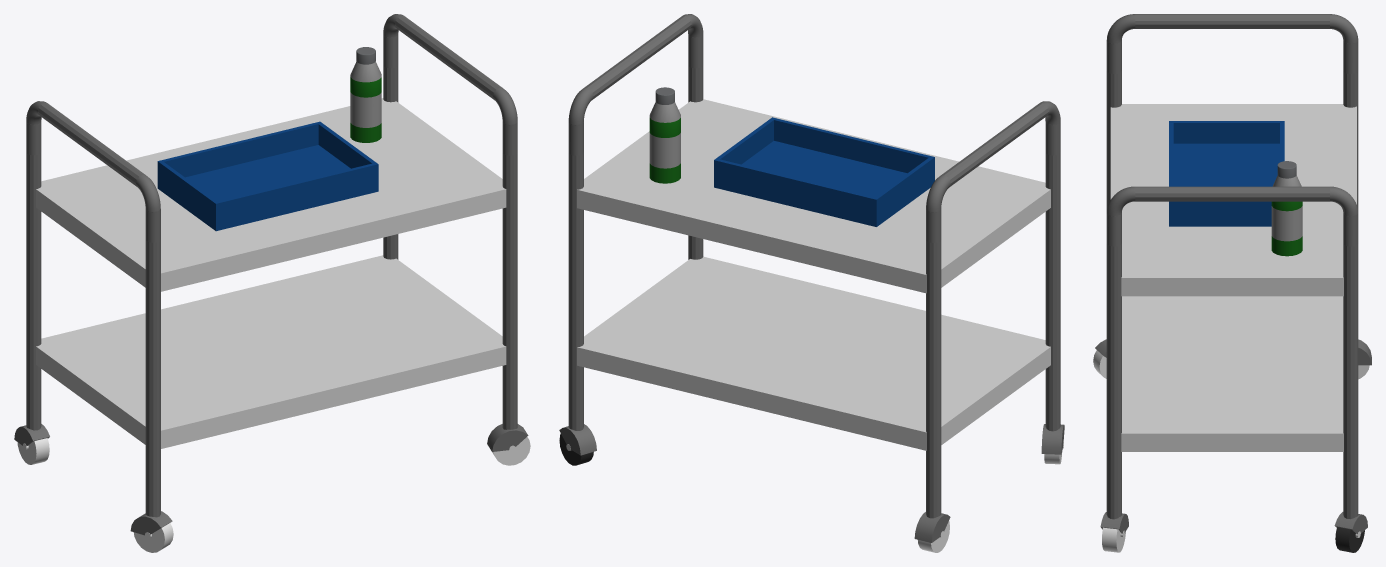
File: Lab_Trolley.fbx
3 views of the same model, side by side, from view 1: azimuth 30°, elevation 25°; view 2: azimuth 150°, elevation 25°; view 3: azimuth 270°, elevation 25° (orthographic).
Visible parts, largest first — view 1: Box169, Box170, Box171, Line035, Line034, Cylinder157, Cylinder145, Cylinder152; view 2: Box169, Box170, Box171, Line035, Line034, Cylinder157, Cylinder148, Cylinder154; view 3: Box169, Box170, Line034, Box171, Line035, Cylinder157, Cylinder149, Cylinder146, Cylinder148, Cylinder145.
Part boxes in pixels (x1,y1,x2,y2): Box169: (36, 255, 506, 448); Box170: (36, 98, 506, 291); Box171: (157, 121, 378, 231); Line035: (26, 101, 160, 517); Line034: (383, 14, 517, 429); Cylinder157: (350, 47, 381, 142); Cylinder145: (487, 424, 528, 451); Cylinder152: (133, 523, 173, 552); Box169: (577, 256, 1050, 450); Box170: (577, 99, 1050, 293); Box171: (714, 117, 934, 226); Line035: (926, 101, 1060, 518); Line034: (568, 14, 703, 430); Cylinder157: (649, 87, 680, 183); Cylinder148: (559, 424, 596, 455); Cylinder154: (914, 512, 950, 542); Box169: (1121, 296, 1343, 451); Box170: (1110, 104, 1356, 296); Line034: (1106, 186, 1358, 519); Box171: (1169, 121, 1284, 226); Line035: (1106, 14, 1358, 211); Cylinder157: (1271, 161, 1302, 256); Cylinder149: (1335, 526, 1364, 552); Cylinder146: (1102, 527, 1125, 552); Cylinder148: (1334, 512, 1367, 534); Cylinder145: (1100, 512, 1128, 533).
Bounding box in the file's own units: 88.77 × 79.69 × 55.46.
Materials: 7 (1 with a texture image).
